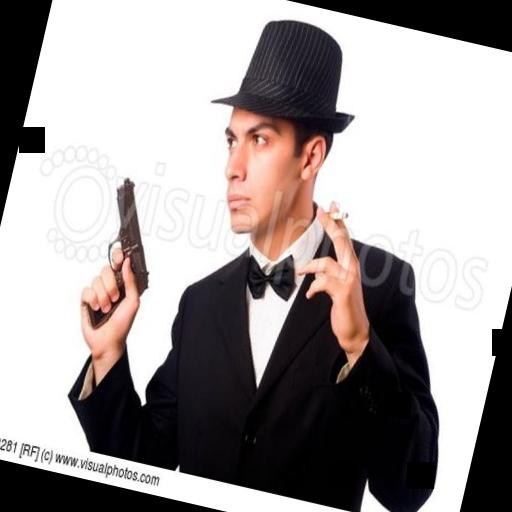Handgun: (74, 174, 170, 336)
